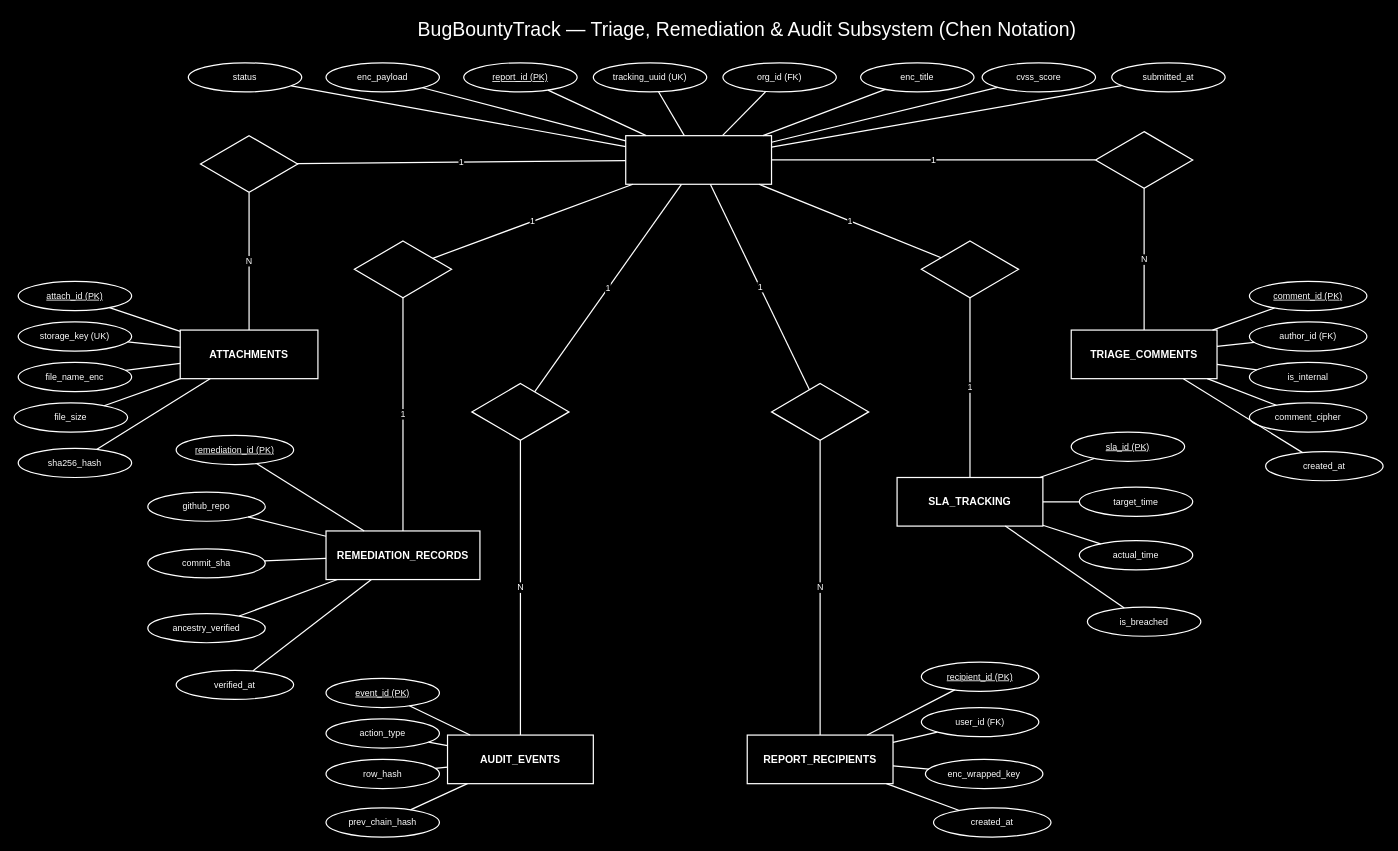
The diagram is 1398 pixels wide and 851 high, and some of its shapes have lost their labels. Each missing label, with the centre of its shape:
discusses: (1144,160)
encrypted_for: (820,411)
includes: (249,164)
logged_in: (520,411)
REPORTS: (698,160)
tracks_sla: (969,269)
verified_by: (402,269)
